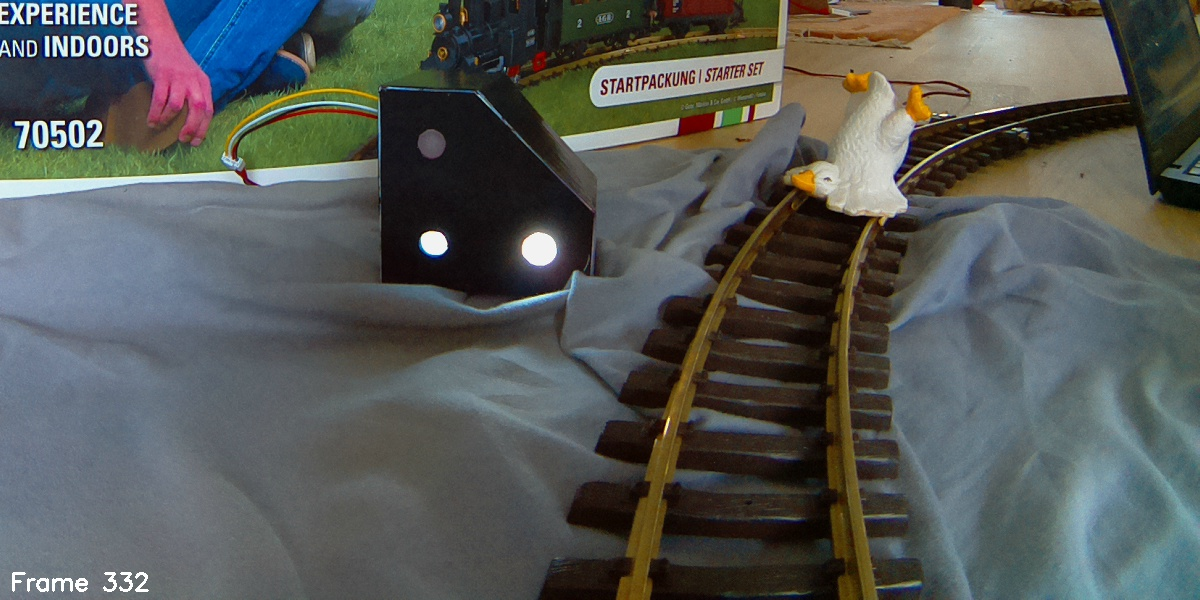Halt: (378, 87, 594, 282)
